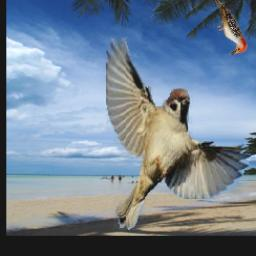Sparrow: (106, 33, 253, 230)
Woodpecker: (214, 0, 248, 56)
